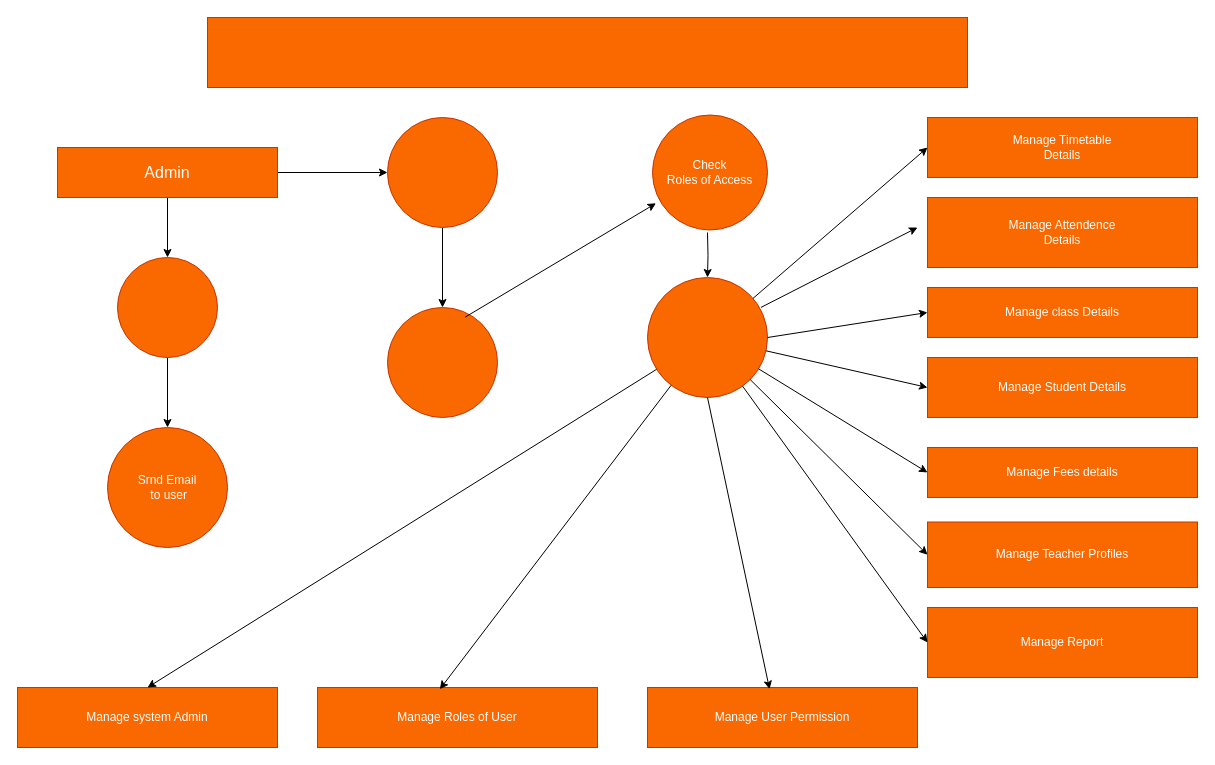
This 1215x765 diagram has some shape labels left out. The box of each missing label's shape, as (x1, y1, x2, y2) in pixels:
check Credentails: (386, 306, 498, 418)
Forgot Password: (116, 256, 218, 358)
Login: (386, 116, 498, 228)
Manage Modules: (646, 276, 768, 398)
Student Information System: (206, 16, 968, 88)
